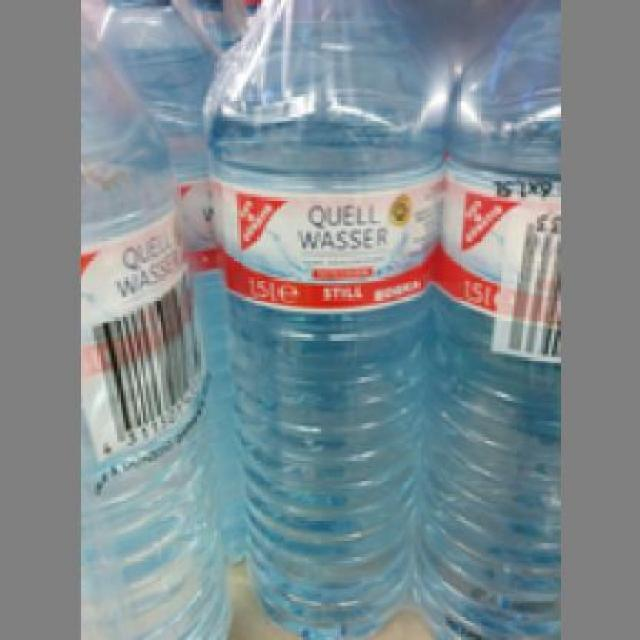Water: (193, 0, 450, 637), (80, 2, 229, 638), (422, 0, 555, 637)
